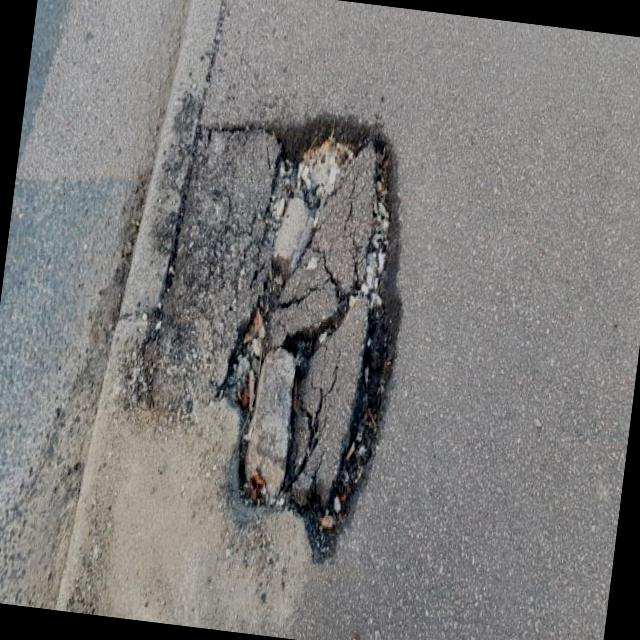pothole: (120, 78, 430, 572)
